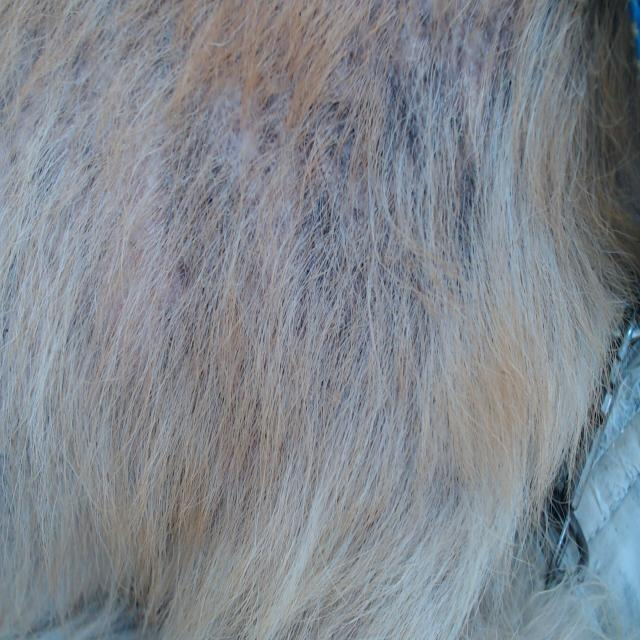demodicosis: (342, 8, 517, 241)
